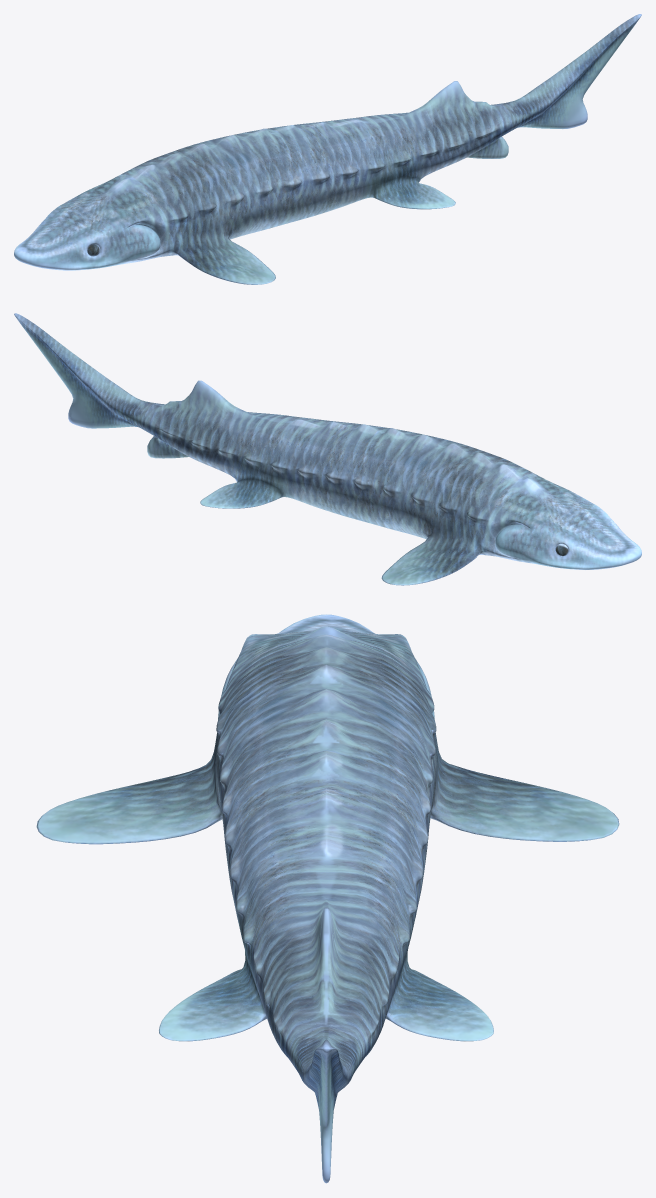
Rendered from sturgeon.glb.
3 renders of one model, top to bottom at view 1: azimuth 30°, elevation 25°; view 2: azimuth 150°, elevation 25°; view 3: azimuth 270°, elevation 25°, orthographic. The views are drawn at different scales.
Visible parts, largest first — view 1: sturgeon; view 2: sturgeon; view 3: sturgeon.
Part boxes in pixels (x1,y1,x2,y2): sturgeon: (14, 14, 641, 284); sturgeon: (14, 313, 641, 585); sturgeon: (36, 614, 619, 1183).
Size of the model in its own units: 17.96 by 3.06 by 7.25.
Materials: 1 (1 with a texture image).
